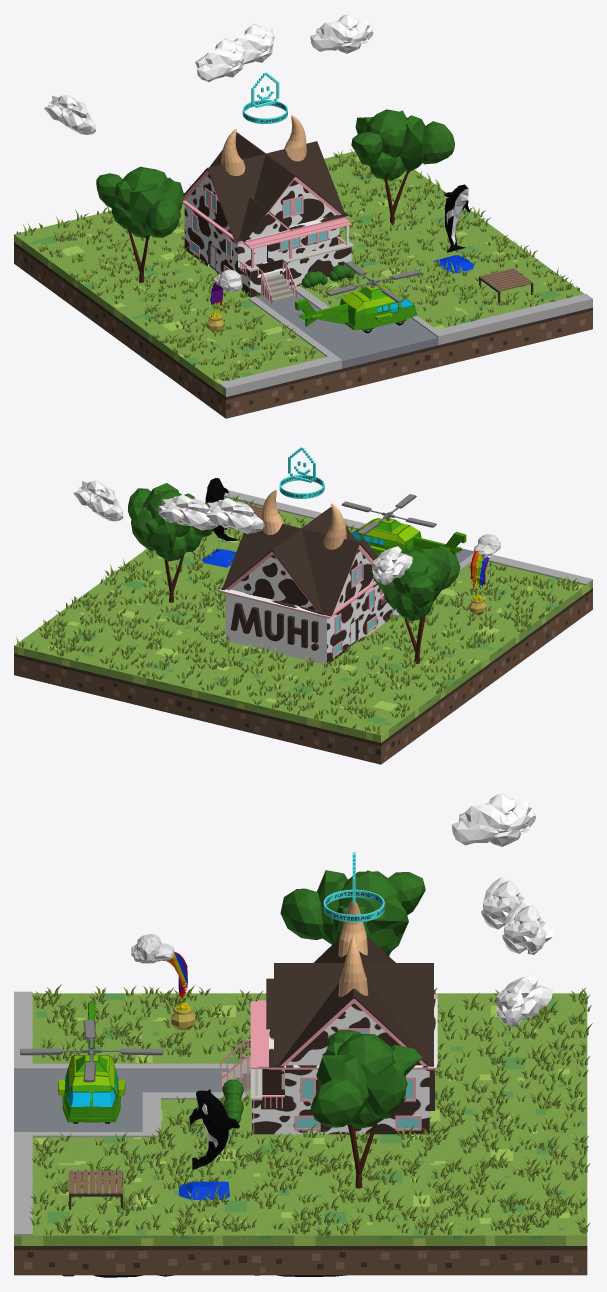
3 views of the same model, one above another, from view 1: azimuth 30°, elevation 25°; view 2: azimuth 150°, elevation 25°; view 3: azimuth 270°, elevation 25° (orthographic). The views are drawn at different scales.
Parts seen in each view (by area): view 1: Cube.006, Cube.1242, Circle.012_Grass_0.192, Cube.007, tree, tree.001, VEHICLES_HELICOPTER, ANIMAL_ORCA, OBJRANDOM_RAINBOW, TYPE_PREMIUM, Cube.009; view 2: Cube.006, Cube.1242, Circle.012_Grass_0.192, Cube.007, tree.001, tree, VEHICLES_HELICOPTER, OBJRANDOM_RAINBOW, ANIMAL_ORCA, TYPE_PREMIUM; view 3: Cube.006, Circle.012_Grass_0.192, Cube.1242, tree, Cube.007, tree.001, VEHICLES_HELICOPTER, ANIMAL_ORCA, OBJRANDOM_RAINBOW, Cube.009, TYPE_PREMIUM.
Boxes of the visible parts, x1,y1,x2,y2 form: Cube.006: [14, 151, 592, 418]; Cube.1242: [182, 115, 354, 303]; Circle.012_Grass_0.192: [16, 148, 579, 381]; Cube.007: [44, 14, 373, 134]; tree: [351, 109, 454, 225]; tree.001: [96, 166, 183, 282]; VEHICLES_HELICOPTER: [295, 261, 421, 333]; ANIMAL_ORCA: [434, 184, 473, 273]; OBJRANDOM_RAINBOW: [206, 269, 242, 332]; TYPE_PREMIUM: [242, 72, 287, 123]; Cube.009: [479, 268, 533, 302]; Cube.006: [14, 490, 592, 764]; Cube.1242: [218, 490, 392, 664]; Circle.012_Grass_0.192: [16, 495, 579, 734]; Cube.007: [73, 480, 412, 585]; tree.001: [369, 547, 460, 663]; tree: [128, 483, 213, 602]; VEHICLES_HELICOPTER: [341, 494, 466, 556]; OBJRANDOM_RAINBOW: [468, 534, 500, 615]; ANIMAL_ORCA: [202, 478, 239, 567]; TYPE_PREMIUM: [279, 447, 324, 498]; Cube.006: [14, 991, 587, 1275]; Circle.012_Grass_0.192: [29, 984, 592, 1236]; Cube.1242: [220, 900, 437, 1134]; tree: [310, 1029, 422, 1188]; Cube.007: [451, 793, 552, 1026]; tree.001: [280, 870, 425, 955]; VEHICLES_HELICOPTER: [20, 1002, 163, 1123]; ANIMAL_ORCA: [178, 1089, 239, 1199]; OBJRANDOM_RAINBOW: [131, 934, 195, 1029]; Cube.009: [69, 1170, 122, 1209]; TYPE_PREMIUM: [323, 852, 384, 922].
Size of the model in its own units: 4071 by 2273 by 4040.
Materials: 43 (4 with a texture image).
